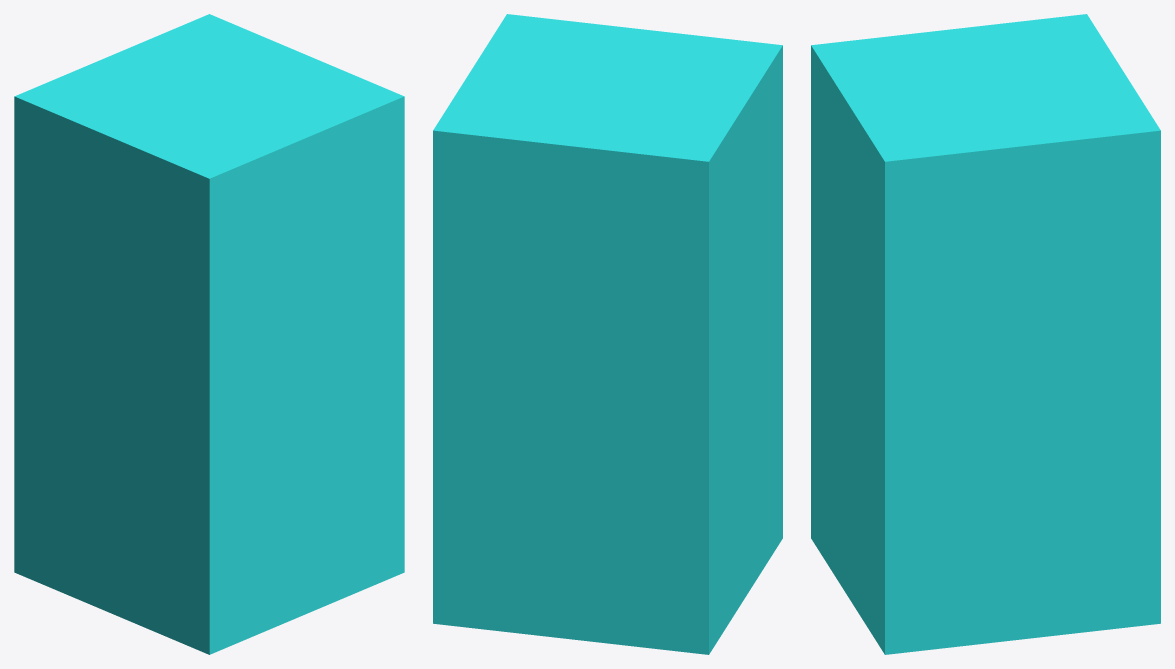
The picture shows the model from 3 angles, left to right: view 1: azimuth 30°, elevation 25°; view 2: azimuth 150°, elevation 25°; view 3: azimuth 270°, elevation 25°; orthographic projection. The views are drawn at different scales.
Parts seen in each view (by area): view 1: 1????A1020; view 2: 1????A1020; view 3: 1????A1020.
Boxes of the visible parts, <box> form: 1????A1020: <box>14,14,404,654</box>; 1????A1020: <box>433,14,782,654</box>; 1????A1020: <box>811,14,1160,654</box>.
Bounding box in the file's own units: 2.57 × 4 × 2.57.
